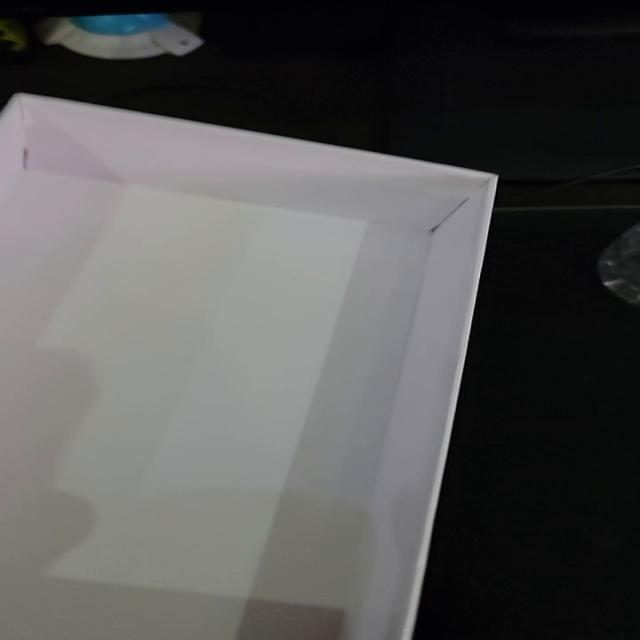Organik: (0, 89, 503, 640)
